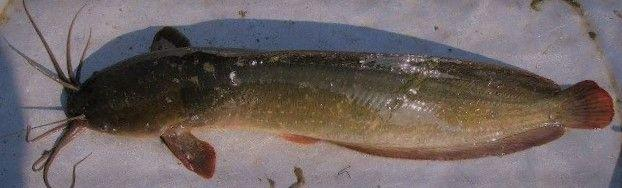Catfish: (27, 25, 617, 180)
